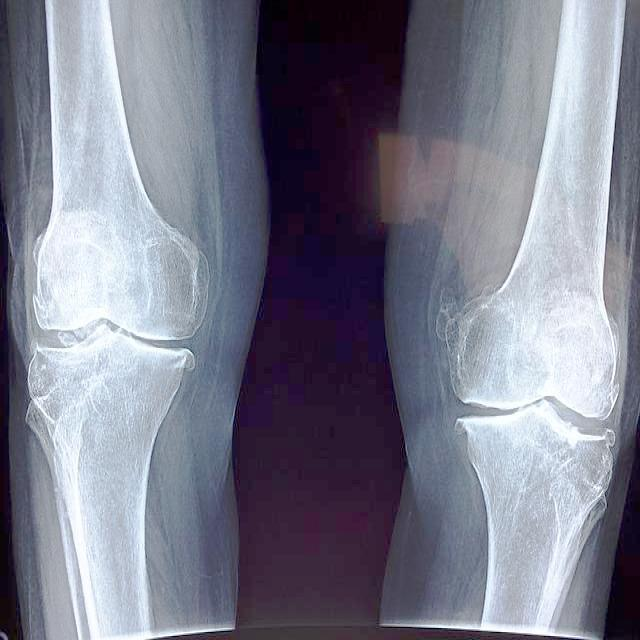HairLine Fracture: (435, 278, 460, 347)
